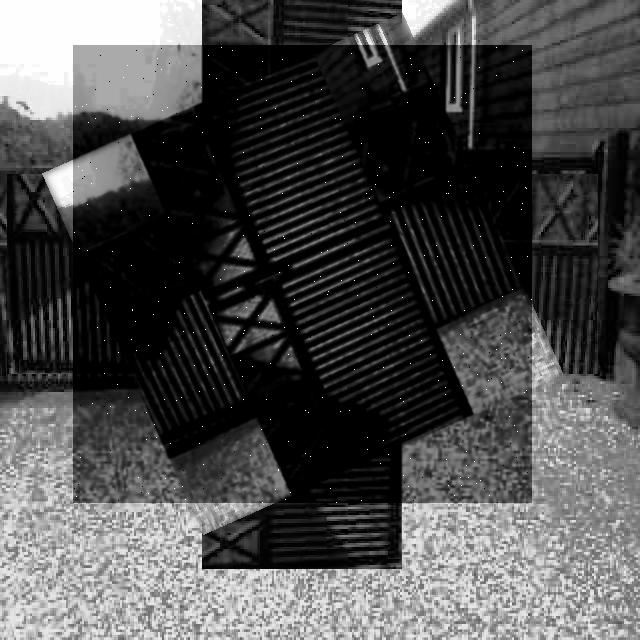fences: (73, 45, 532, 503)
